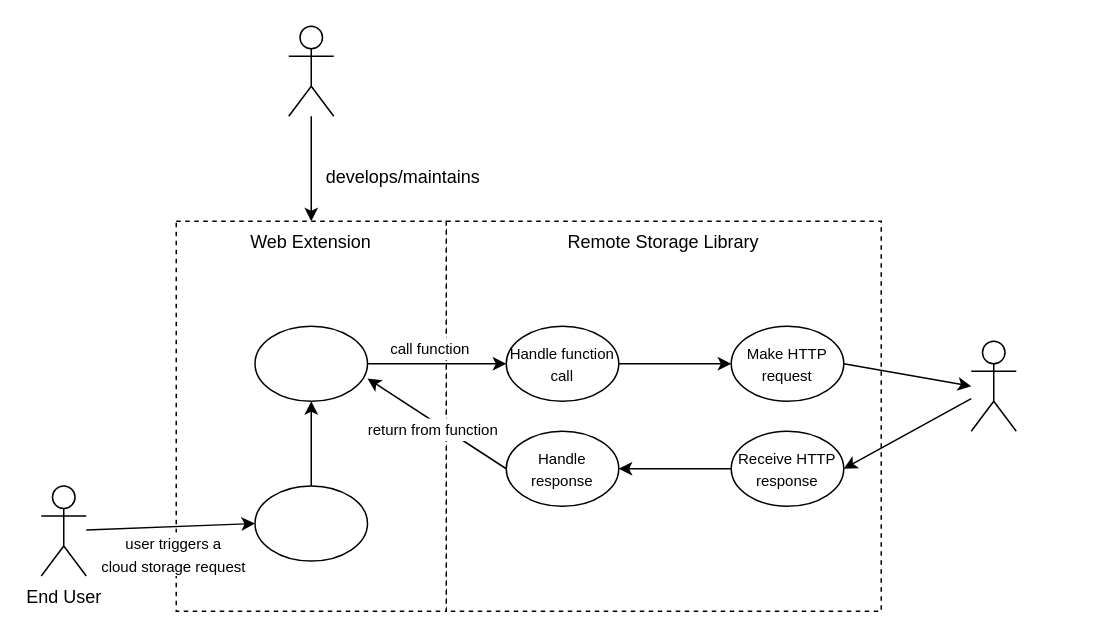
Image size: 1113x638. Some labels were removed from this diagram. The centre of each missing label's shape, as x and y in pixels:
Cloud Storage Provider: (x=993, y=385)
Controller: (x=311, y=363)
Extension Developer: (x=310, y=70)
Interface: (x=311, y=522)
